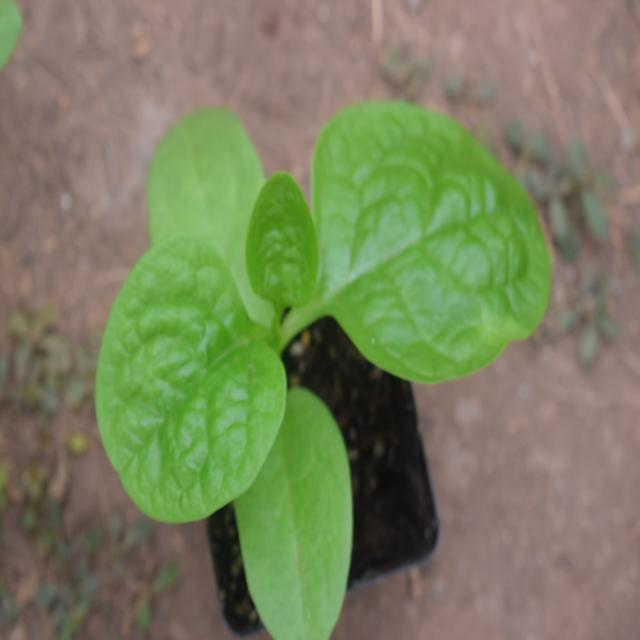Ceylon spinach: (96, 100, 556, 555)
